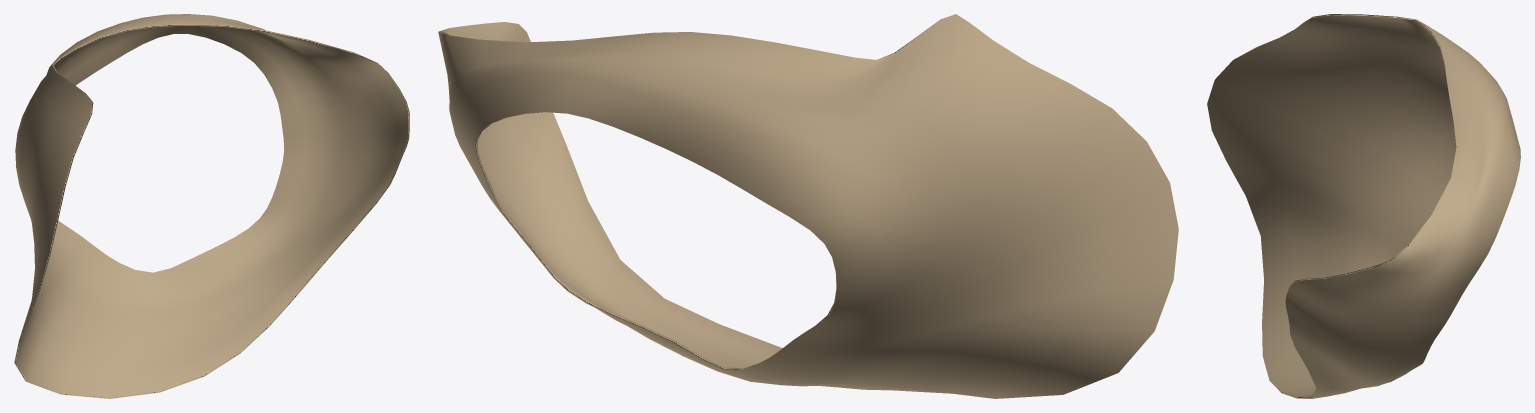
3 renders of one model, left to right at view 1: azimuth 30°, elevation 25°; view 2: azimuth 150°, elevation 25°; view 3: azimuth 270°, elevation 25°, orthographic. The views are drawn at different scales.
Parts seen in each view (by area): view 1: 右侧颞下颌关节囊; view 2: 右侧颞下颌关节囊; view 3: 右侧颞下颌关节囊.
Boxes of the visible parts, box(x1,y1,x2,y2) form: 右侧颞下颌关节囊: box(14, 14, 409, 398); 右侧颞下颌关节囊: box(438, 14, 1178, 398); 右侧颞下颌关节囊: box(1207, 14, 1520, 398).
Size of the model in its own units: 0.0337 by 0.0216 by 0.019.
